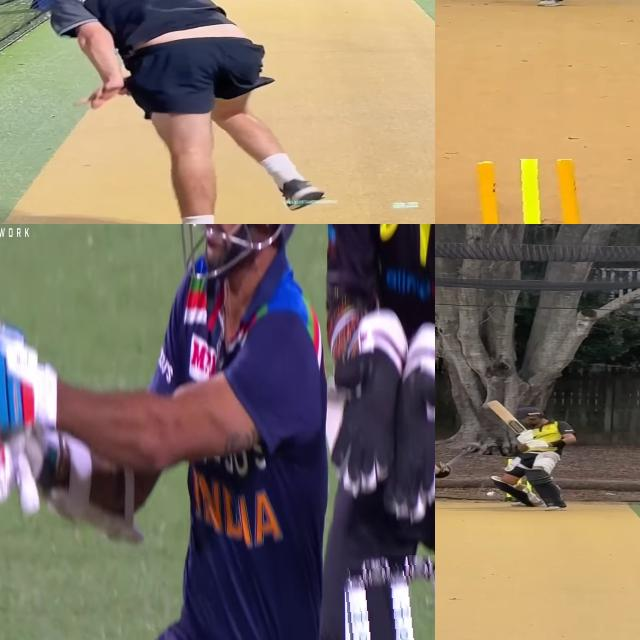Cricket ball: (486, 490, 496, 498)
Stumps: (464, 159, 587, 224), (342, 555, 435, 640)
